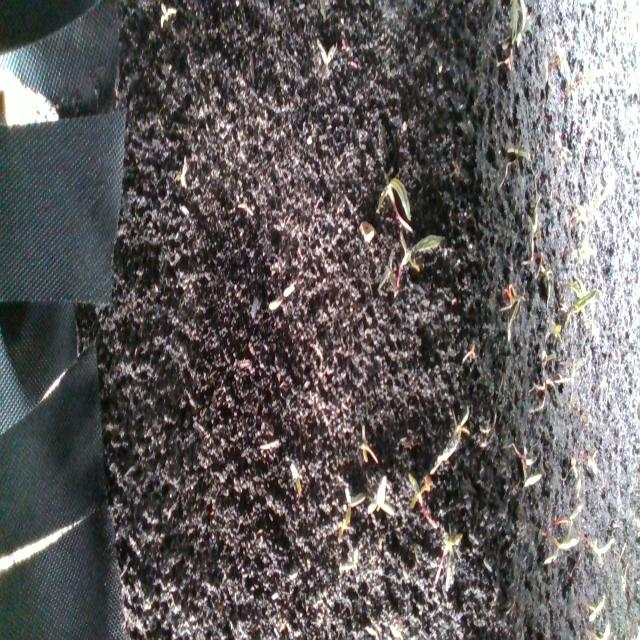weed: (153, 0, 181, 36), (354, 426, 378, 468), (273, 281, 295, 315), (176, 161, 194, 202), (256, 435, 283, 457)
